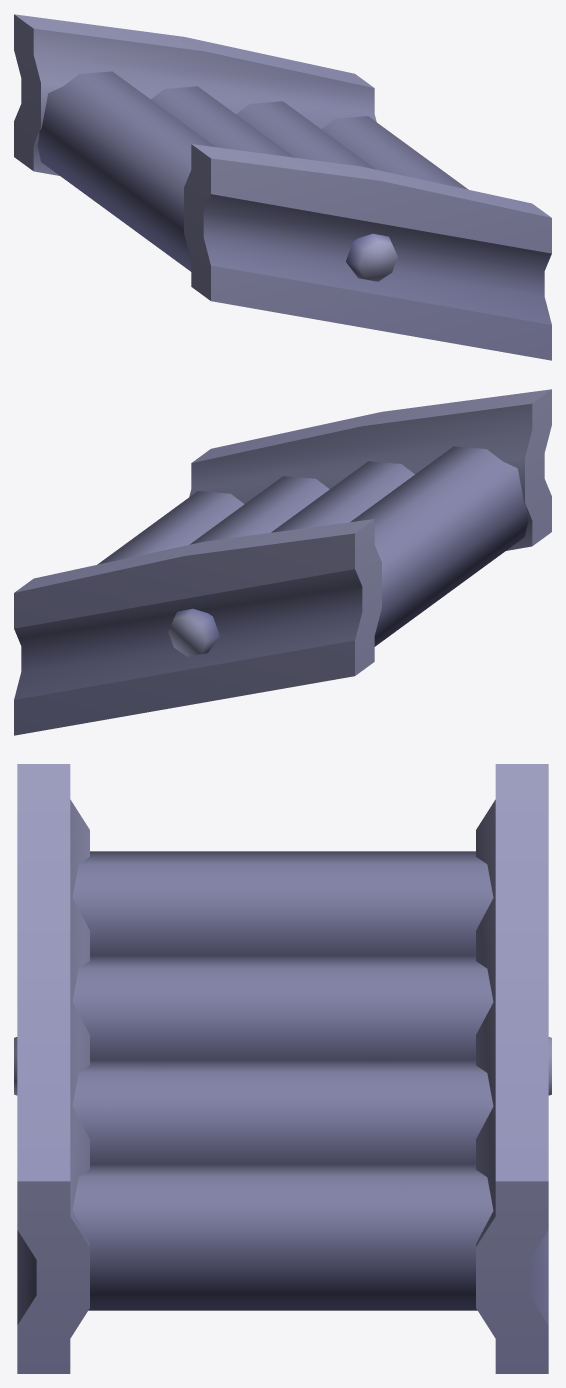
The model's file is kenney-factory-conveyor-bars-high-slope.glb.
3 views of the same model, one above another, from view 1: azimuth 30°, elevation 25°; view 2: azimuth 150°, elevation 25°; view 3: azimuth 270°, elevation 25° (orthographic). The views are drawn at different scales.
Parts seen in each view (by area): view 1: conveyor-bars-high-slope; view 2: conveyor-bars-high-slope; view 3: conveyor-bars-high-slope.
Part boxes in pixels (<box>): conveyor-bars-high-slope: <box>14,14,551,360</box>; conveyor-bars-high-slope: <box>14,389,551,735</box>; conveyor-bars-high-slope: <box>14,764,551,1373</box>.
Size of the model in its own units: 1.5 by 1.2 by 1.52.
Materials: 1 (1 with a texture image).
